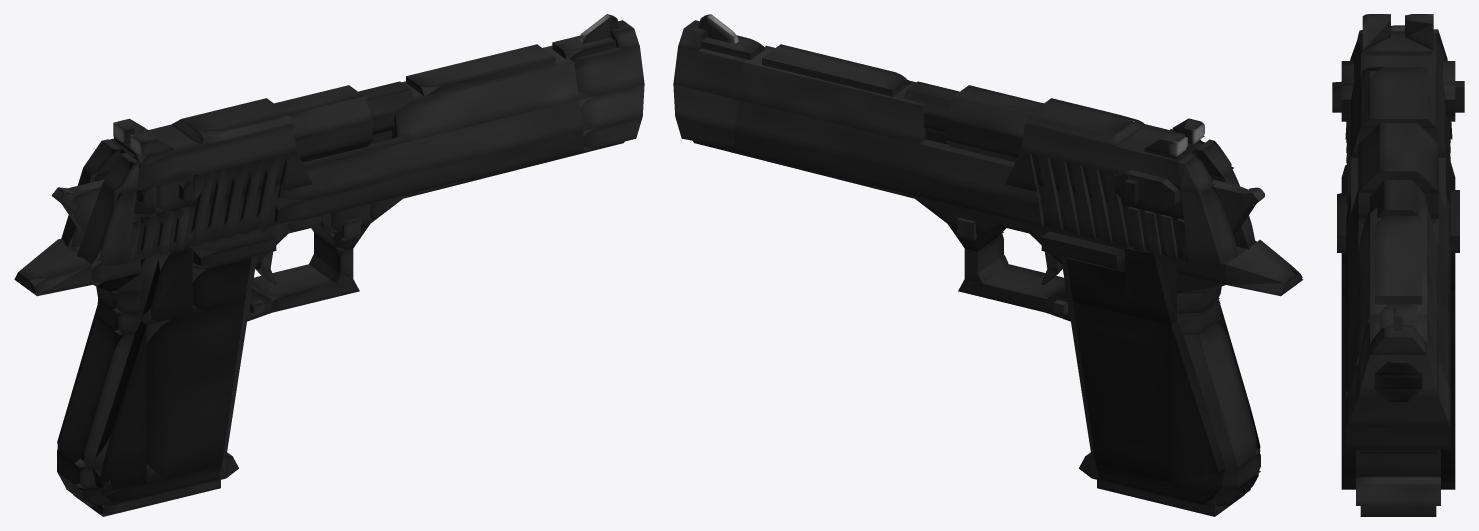
File: deagle.obj
3 renders of one model, left to right at view 1: azimuth 30°, elevation 25°; view 2: azimuth 150°, elevation 25°; view 3: azimuth 270°, elevation 25°, orthographic. The views are drawn at different scales.
Visible parts, largest first — view 1: gunModel32, slideModel3, gunModel0, slideModel4, gunModel31, gunModel25, slideModel0, gunModel1, slideModel11, slideModel15, gunModel43, gunModel33 (+30 smaller); view 2: gunModel32, slideModel3, gunModel0, slideModel4, gunModel31, gunModel25, slideModel0, gunModel1, slideModel12, slideModel15, gunModel43, gunModel33 (+31 smaller); view 3: slideModel3, gunModel43, slideModel15, gunModel1, gunModel0, gunModel2, slideModel0, gunModel3, gunModel32, gunModel29, gunModel4, gunModel11 (+25 smaller).
Part boxes in pixels (<box>): gunModel32: <box>146,301,244,482</box>; slideModel3: <box>276,100,583,205</box>; gunModel0: <box>392,45,578,140</box>; slideModel4: <box>274,131,583,226</box>; gunModel31: <box>57,305,146,493</box>; gunModel25: <box>57,318,134,467</box>; slideModel0: <box>109,124,296,189</box>; gunModel1: <box>406,44,555,96</box>; slideModel11: <box>77,184,136,267</box>; slideModel15: <box>171,98,292,146</box>; gunModel43: <box>274,85,372,138</box>; gunModel33: <box>141,246,192,324</box>; gunModel32: <box>1073,301,1171,482</box>; slideModel3: <box>734,100,1041,205</box>; gunModel0: <box>739,45,926,143</box>; slideModel4: <box>734,131,1043,226</box>; gunModel31: <box>1171,305,1260,493</box>; gunModel25: <box>1183,319,1260,467</box>; slideModel0: <box>1021,120,1204,189</box>; gunModel1: <box>762,44,911,96</box>; slideModel12: <box>1181,186,1237,267</box>; slideModel15: <box>1025,98,1145,146</box>; gunModel43: <box>945,85,1043,138</box>; gunModel33: <box>1125,246,1176,324</box>; slideModel3: <box>1346,189,1450,391</box>; gunModel43: <box>1358,123,1438,192</box>; slideModel15: <box>1360,67,1436,127</box>; gunModel1: <box>1374,216,1422,304</box>; gunModel0: <box>1358,204,1438,357</box>; gunModel2: <box>1346,358,1450,427</box>; slideModel0: <box>1351,33,1445,157</box>; gunModel3: <box>1358,314,1438,397</box>; gunModel32: <box>1341,291,1455,474</box>; gunModel29: <box>1356,476,1440,505</box>; gunModel4: <box>1346,427,1450,449</box>; gunModel11: <box>1356,449,1440,477</box>.
Size of the model in its own units: 9.25 by 5.3 by 1.4.
